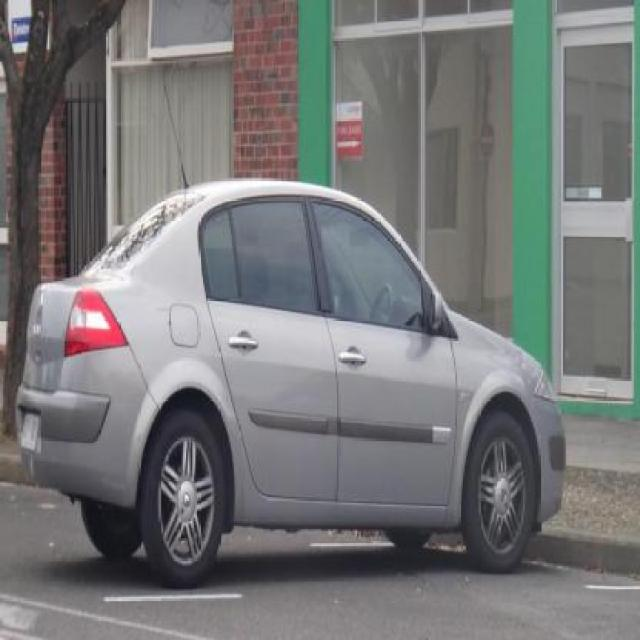License-Plates: (18, 414, 42, 456)
